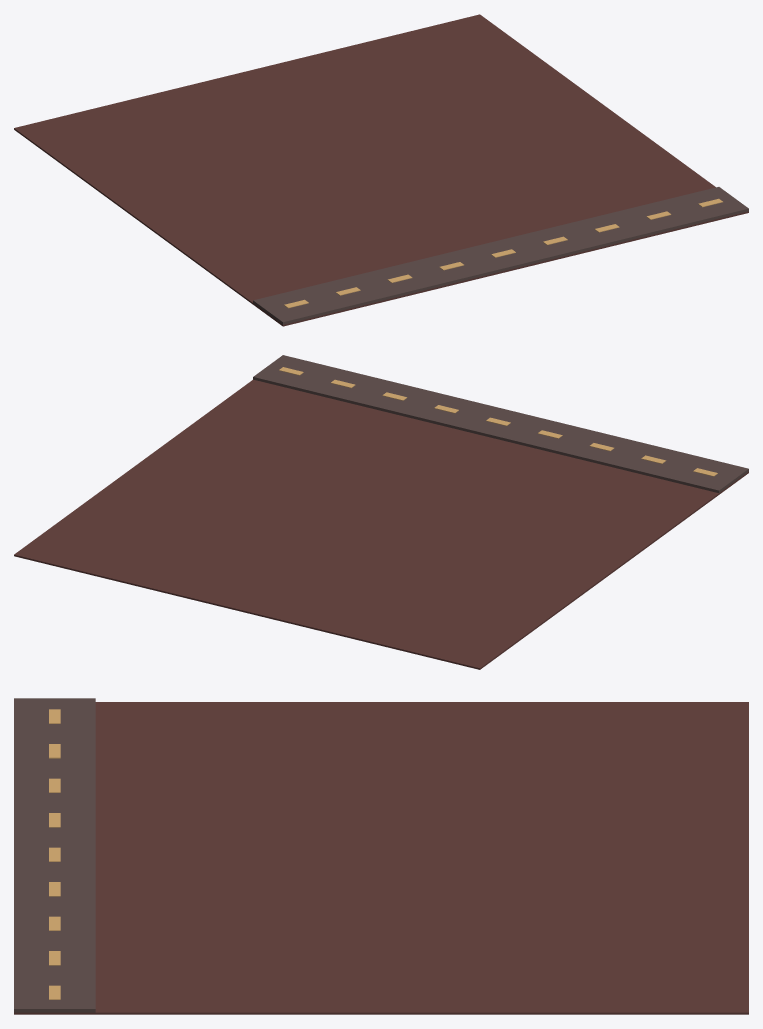
Rendered from stage_00.glb.
The picture shows the model from 3 angles, top to bottom: view 1: azimuth 30°, elevation 25°; view 2: azimuth 150°, elevation 25°; view 3: azimuth 270°, elevation 25°; orthographic projection. The views are drawn at different scales.
Visible parts, largest first — view 1: geometry_0; view 2: geometry_0; view 3: geometry_0.
Boxes of the visible parts, x1=… form: geometry_0: x1=14, y1=14, x2=748, y2=326; geometry_0: x1=14, y1=355, x2=748, y2=669; geometry_0: x1=14, y1=698, x2=748, y2=1014.
Size of the model in its own units: 9 by 0.091 by 9.
